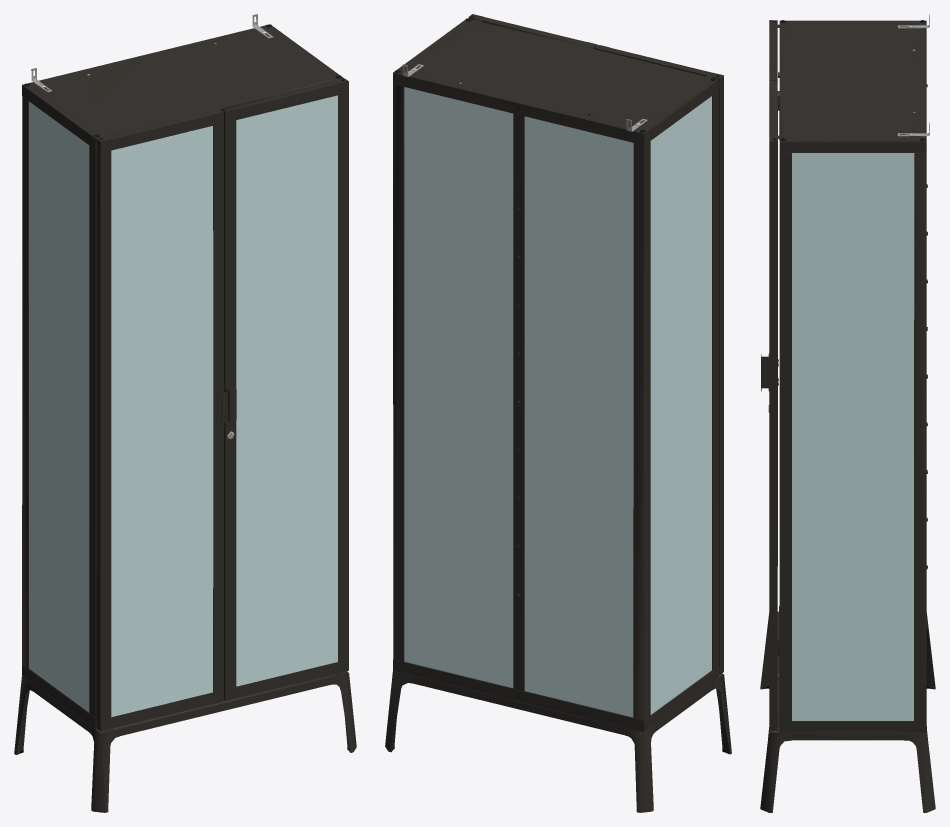
The model's file is 21 - MILSBO Glass-door cabinet - anthracite 73x175 cm.glb.
The picture shows the model from 3 angles, left to right: view 1: azimuth 30°, elevation 25°; view 2: azimuth 150°, elevation 25°; view 3: azimuth 270°, elevation 25°; orthographic projection.
Visible parts, largest first — view 1: Mesh_1, Mesh_0; view 2: Mesh_1, Mesh_0; view 3: Mesh_1, Mesh_0.
Part boxes in pixels (x1,y1,x2,y2): Mesh_1: (29,43,337,717); Mesh_0: (14,14,356,812); Mesh_1: (404,82,711,717); Mesh_0: (385,14,731,812); Mesh_1: (792,49,915,720); Mesh_0: (760,14,935,812).
Bounding box in the file's own units: 0.7245 × 1.78 × 0.4168.
2 materials, 1 textured.
